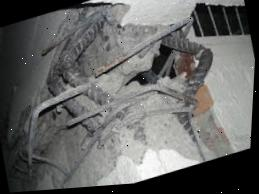exposed_rebar: (26, 17, 112, 159), (94, 17, 192, 77), (66, 84, 194, 127), (95, 101, 191, 148), (73, 103, 129, 167), (161, 33, 212, 90), (31, 154, 67, 175)
spalling: (1, 3, 218, 192)
